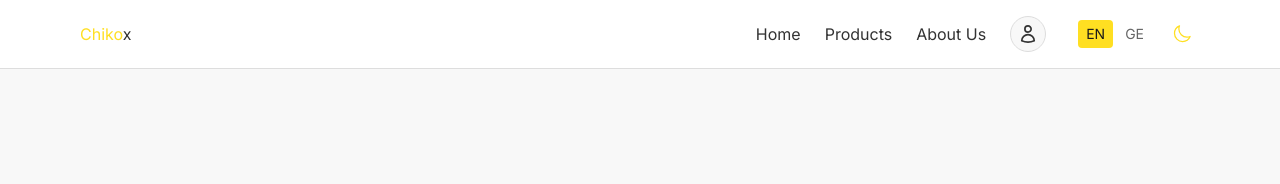
Test: Navbar › shows login and register in dropdown when clicked
The image size is (1280, 184).
# Find the user dropdown button (the one with no text, just icon)
Click the 1st button at (1028, 34), box top-left (1010, 16), bottom-right (1046, 52)
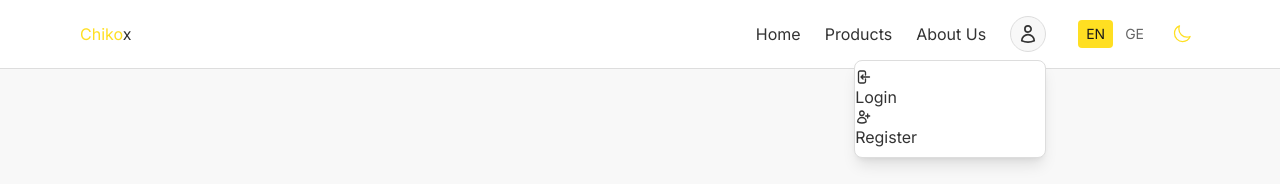
Expected: the link "Login" is shown, top-left (855, 69), bottom-right (897, 107)
Expected: the link "Register" is shown, top-left (855, 109), bottom-right (917, 147)
